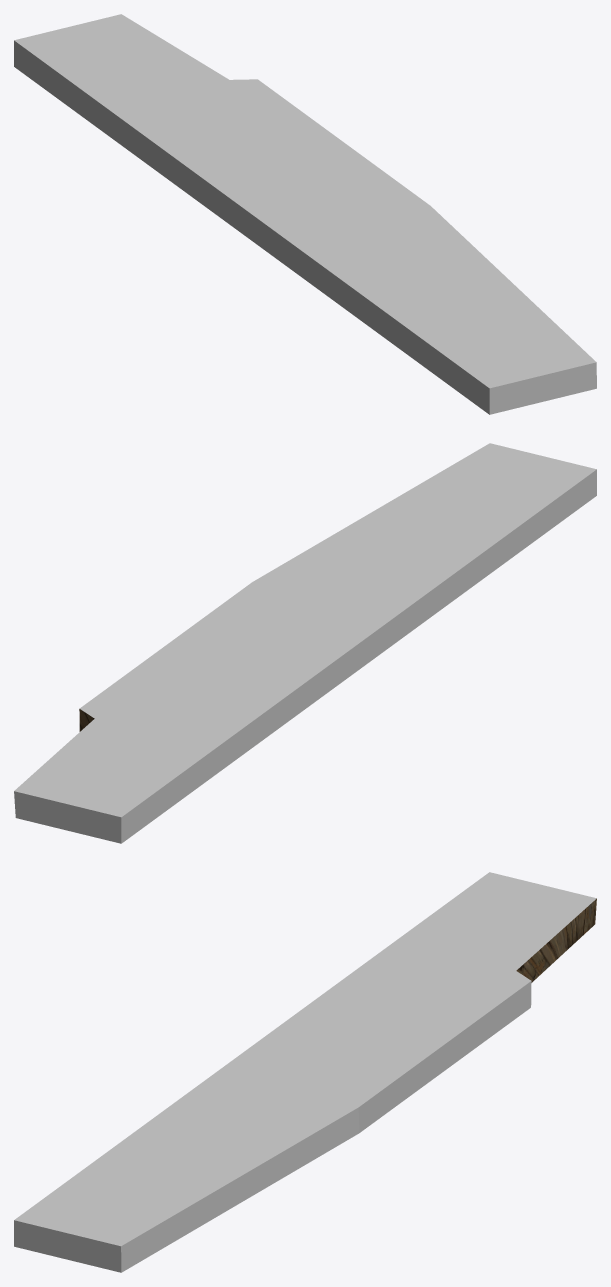
File: lower_city_wood_plank_short_01.fbx
The picture shows the model from 3 angles, top to bottom: view 1: azimuth 30°, elevation 25°; view 2: azimuth 150°, elevation 25°; view 3: azimuth 330°, elevation 25°; orthographic projection.
Visible parts, largest first — view 1: lower_city_wood_plank_short_01; view 2: lower_city_wood_plank_short_01; view 3: lower_city_wood_plank_short_01.
Boxes of the visible parts, bbox=[...] form: lower_city_wood_plank_short_01: bbox=[14, 14, 596, 414]; lower_city_wood_plank_short_01: bbox=[14, 443, 596, 843]; lower_city_wood_plank_short_01: bbox=[14, 872, 596, 1272].
Bounding box in the file's own units: 0.2856 × 0.0505 × 1.65.
